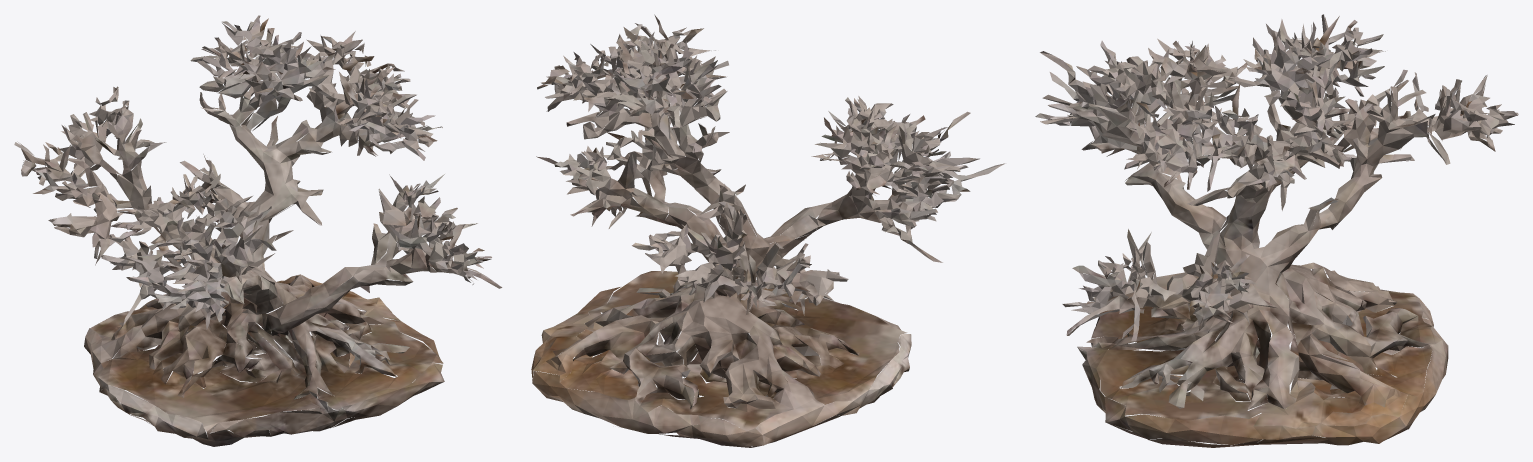
File: wt-wasteland-thornwood.glb
3 views of the same model, side by side, from view 1: azimuth 30°, elevation 25°; view 2: azimuth 150°, elevation 25°; view 3: azimuth 270°, elevation 25° (orthographic). The views are drawn at different scales.
Visible parts, largest first — view 1: tmp159safv6.ply; view 2: tmp159safv6.ply; view 3: tmp159safv6.ply.
Part boxes in pixels (x1,y1,x2,y2): tmp159safv6.ply: [14, 15, 502, 446]; tmp159safv6.ply: [531, 14, 1005, 447]; tmp159safv6.ply: [1035, 14, 1518, 447].
Bounding box in the file's own units: 7.51 × 6.35 × 7.62.
1 material, 1 textured.
